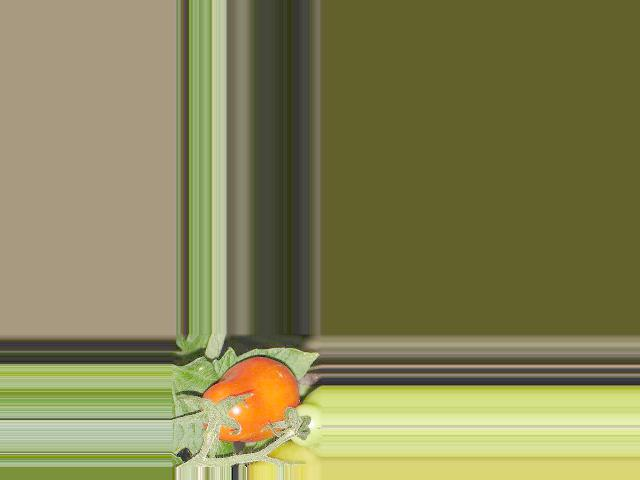tomato: (200, 356, 298, 441)
